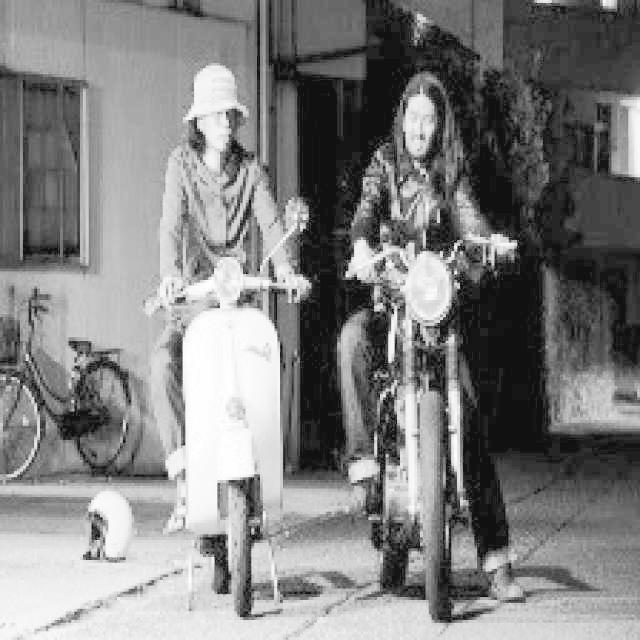Bike: (163, 236, 291, 610), (381, 248, 487, 603)
